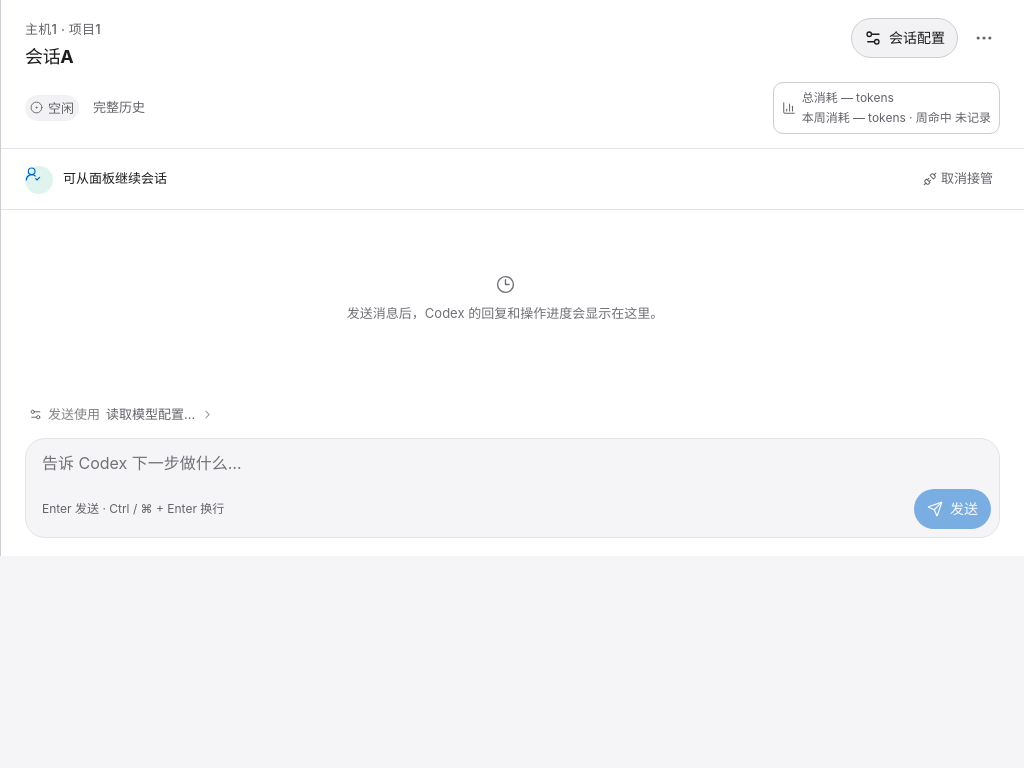
Test case: 同账号另一个浏览器的租约不阻止发送，也不展示手动控制权按钮
Type "继续任务" into the text box named "发送给 Codex 的消息".
click(512, 464); type("继续任务")  # box [26,439,999,489]
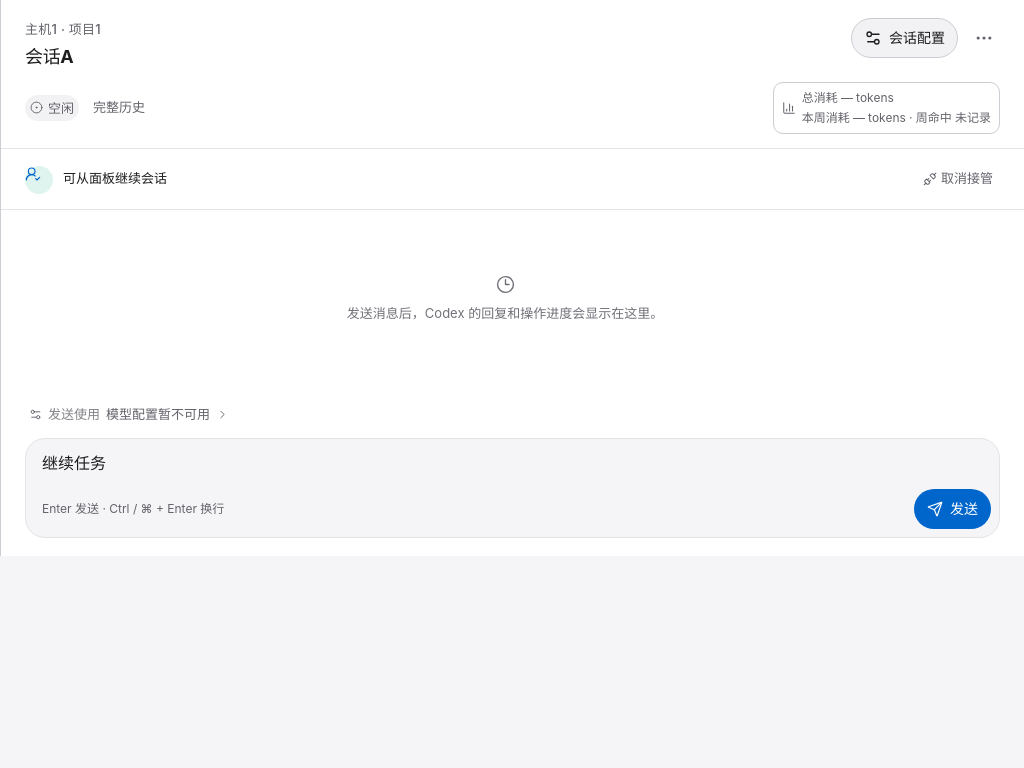
Expected: the button "发送" is enabled, [914,489,991,529]
